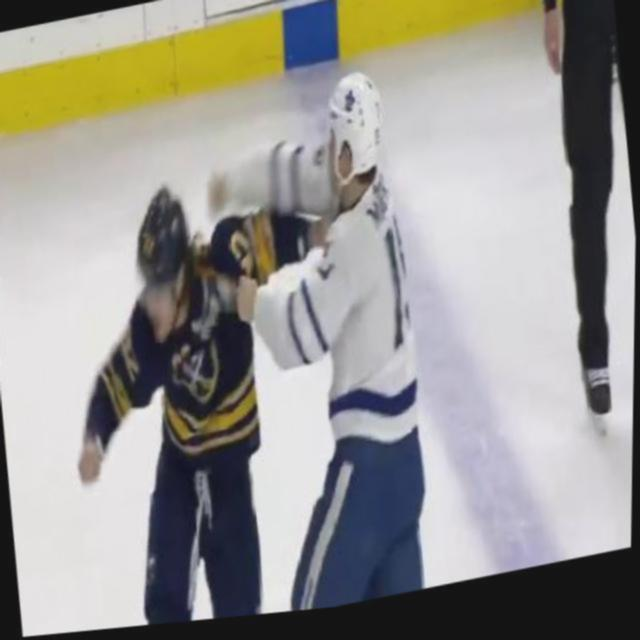fight: (23, 45, 466, 638)
